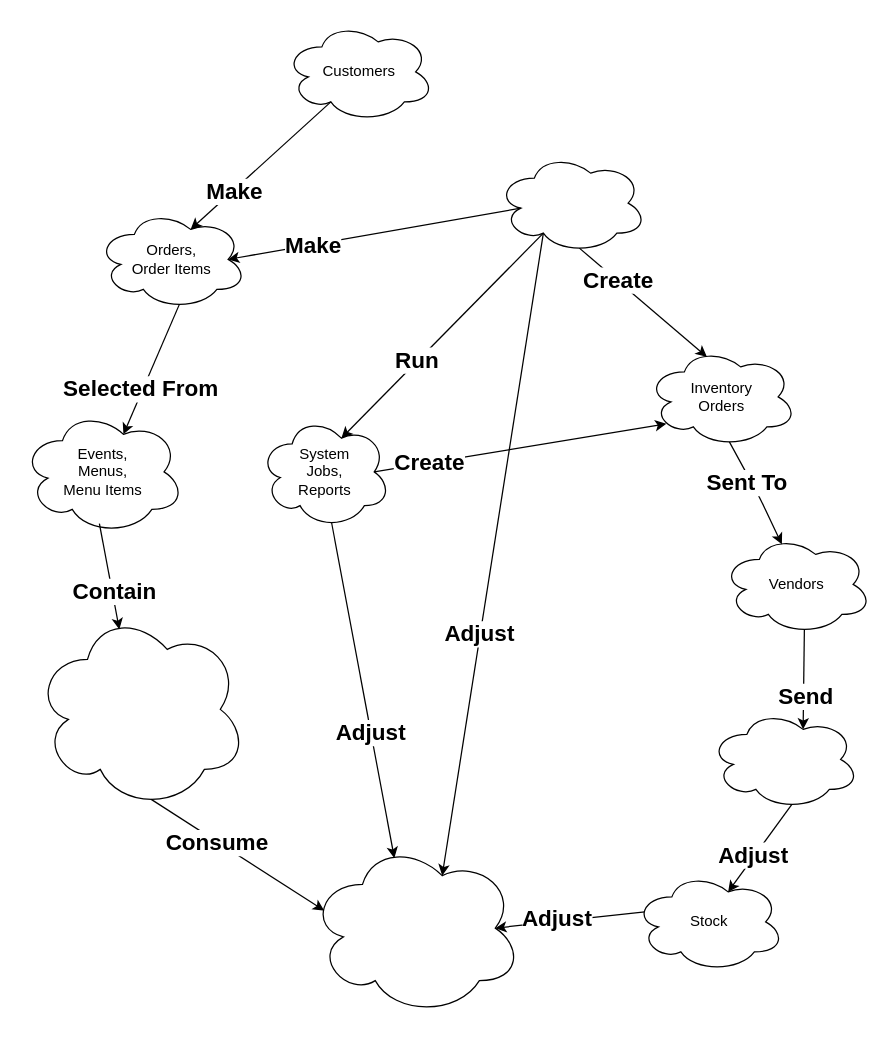
This 894x1038 diagram has some shape labels left out. The shapes that lost their labels are listed below. From the top down, each one's box as (x1, y1, x2, y2) in pixels, then its label:
(496, 152, 647, 253): Employees
(33, 608, 247, 809): Food Items (Recipes, Beverages, Extras)
(708, 708, 859, 809): Deliveries
(308, 839, 522, 1016): Inventory
